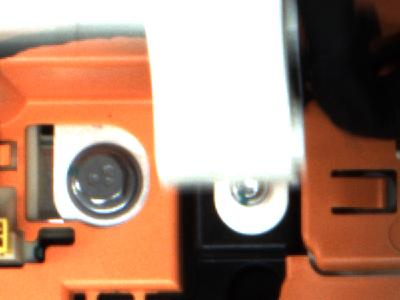nut_b: (65, 141, 144, 218)
